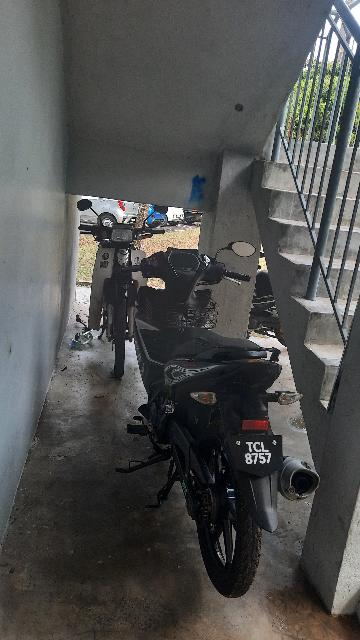License_Plate: (220, 422, 297, 486)
motorcycle: (112, 234, 317, 597), (63, 190, 186, 385)
